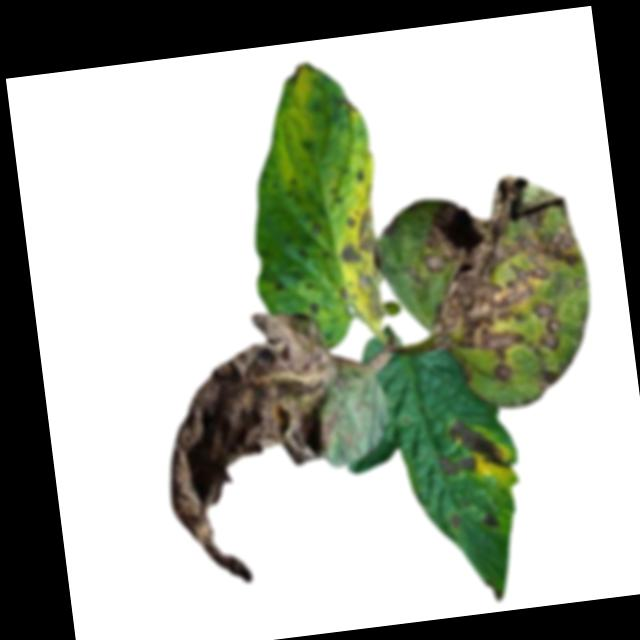Early_blight: (146, 303, 368, 594), (405, 163, 600, 394), (337, 197, 393, 332), (446, 415, 508, 476), (435, 451, 478, 482), (284, 60, 323, 88), (445, 512, 464, 535), (482, 510, 500, 530)
